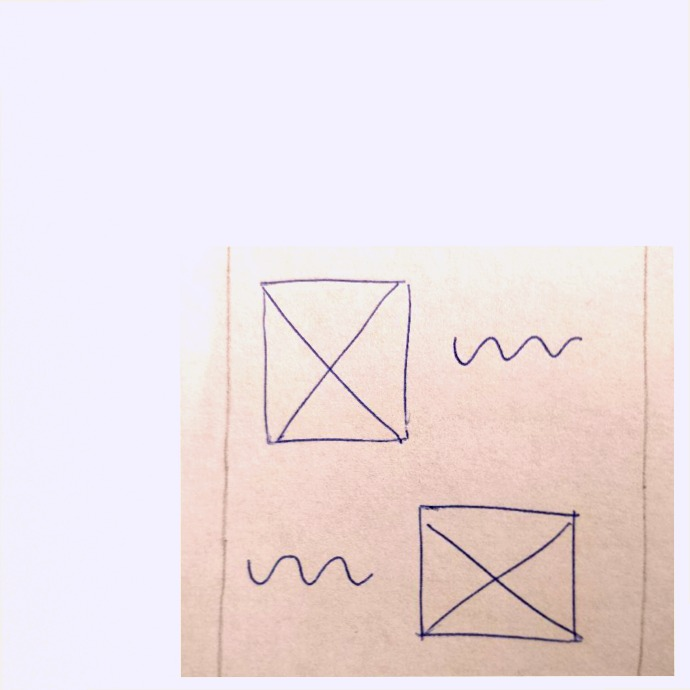image: (255, 274, 415, 447), (412, 497, 587, 654)
text: (445, 317, 583, 376), (238, 543, 376, 601)
